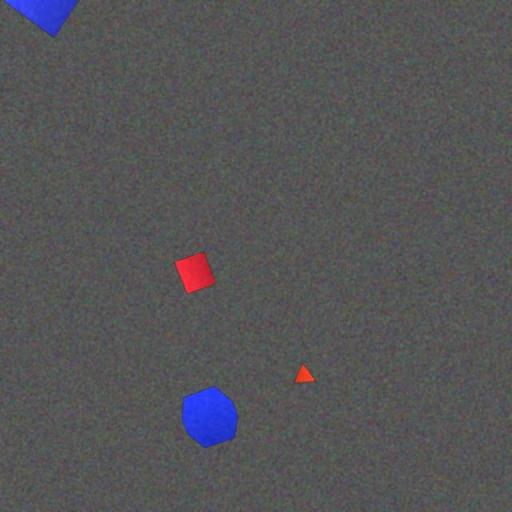BLUE_SQUARE: (3, 0, 94, 38)
RED_SQUARE: (174, 250, 216, 294)
